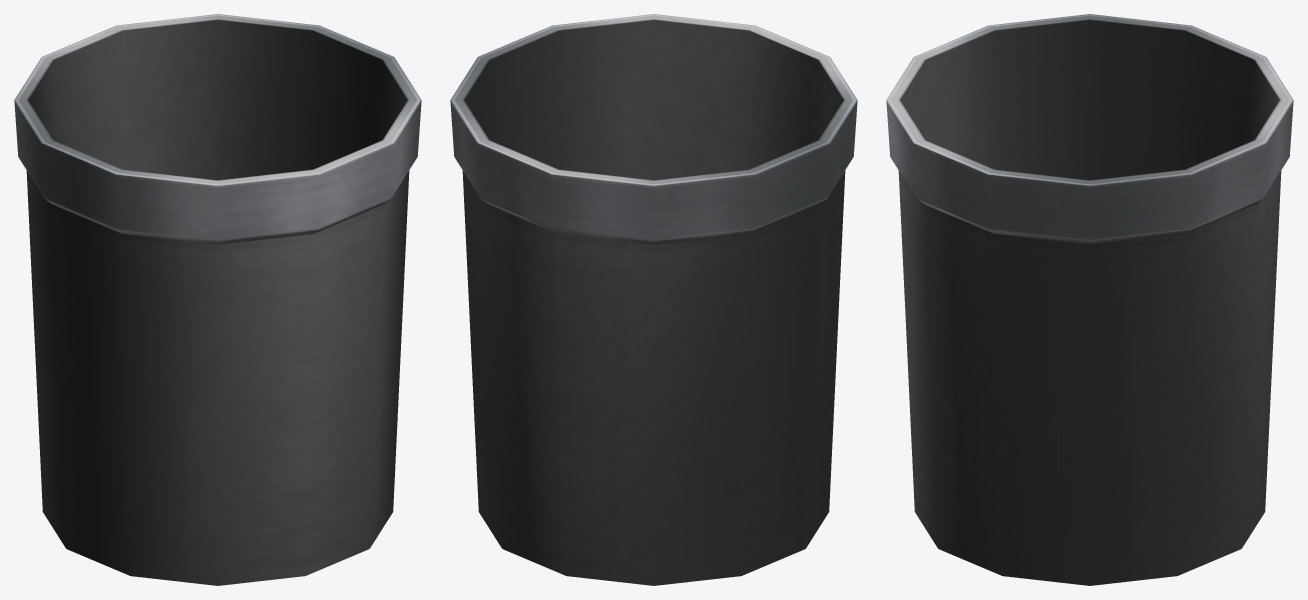
File: ShenFuXiuXiShi_01_lajitong_01.FBX
The picture shows the model from 3 angles, left to right: view 1: azimuth 30°, elevation 25°; view 2: azimuth 150°, elevation 25°; view 3: azimuth 270°, elevation 25°; orthographic projection.
Parts seen in each view (by area): view 1: ShenFuXiuXiShi_01_lajitong_01; view 2: ShenFuXiuXiShi_01_lajitong_01; view 3: ShenFuXiuXiShi_01_lajitong_01.
Boxes of the visible parts, x1,y1,x2,y2 form: ShenFuXiuXiShi_01_lajitong_01: (14, 14, 421, 585); ShenFuXiuXiShi_01_lajitong_01: (450, 14, 857, 585); ShenFuXiuXiShi_01_lajitong_01: (886, 14, 1293, 585).
Bounding box in the file's own units: 139 × 155 × 139.
